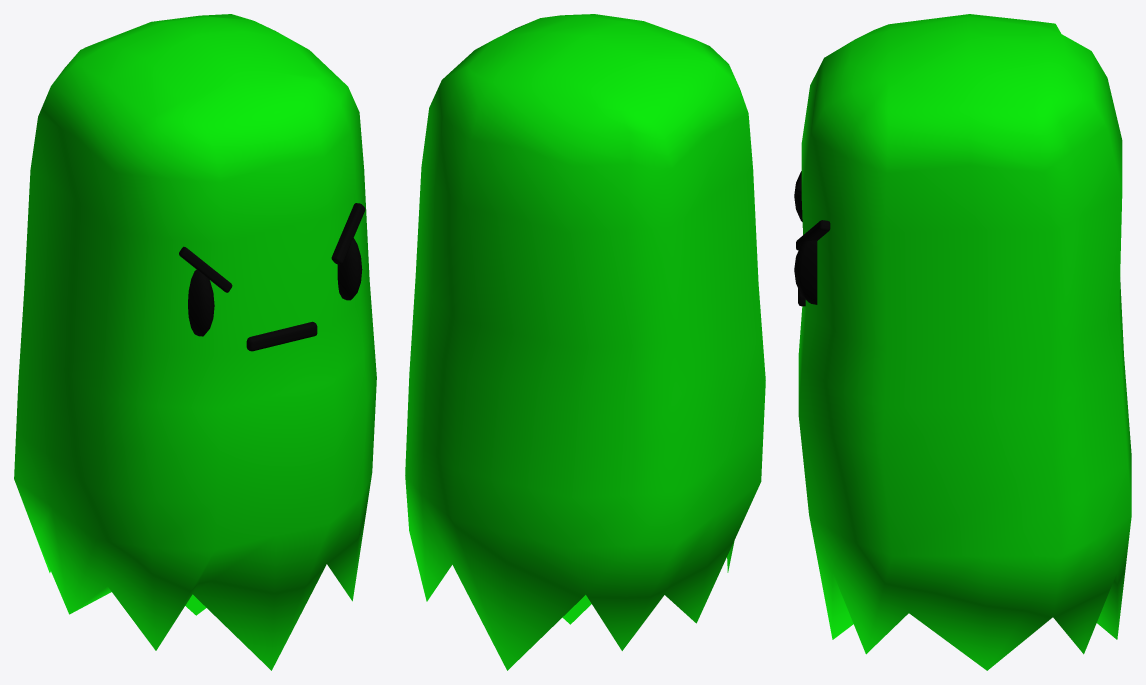
The model's file is fantasma.fbx.
3 views of the same model, side by side, from view 1: azimuth 30°, elevation 25°; view 2: azimuth 150°, elevation 25°; view 3: azimuth 270°, elevation 25° (orthographic). The views are drawn at different scales.
Parts seen in each view (by area): view 1: fantasmaBody_geo, fantasmaOjoDER_geo, fantasmaBoca_geo, fantasmaOjoIZQ_geo, fantasmaCejaIZQ_geo, fantasmaCejaDER_geo; view 2: fantasmaBody_geo; view 3: fantasmaBody_geo, fantasmaOjoIZQ_geo.
Part boxes in pixels (x1=…): fantasmaBody_geo: x1=14, y1=14, x2=376, y2=670; fantasmaOjoDER_geo: x1=188, y1=269, x2=214, y2=336; fantasmaBoca_geo: x1=246, y1=321, x2=317, y2=351; fantasmaOjoIZQ_geo: x1=337, y1=238, x2=362, y2=300; fantasmaCejaIZQ_geo: x1=331, y1=203, x2=365, y2=264; fantasmaCejaDER_geo: x1=179, y1=246, x2=232, y2=292; fantasmaBody_geo: x1=405, y1=14, x2=765, y2=670; fantasmaBody_geo: x1=798, y1=14, x2=1131, y2=670; fantasmaOjoIZQ_geo: x1=794, y1=240, x2=817, y2=304.
Bounding box in the file's own units: 81.63 × 166 × 84.45.
